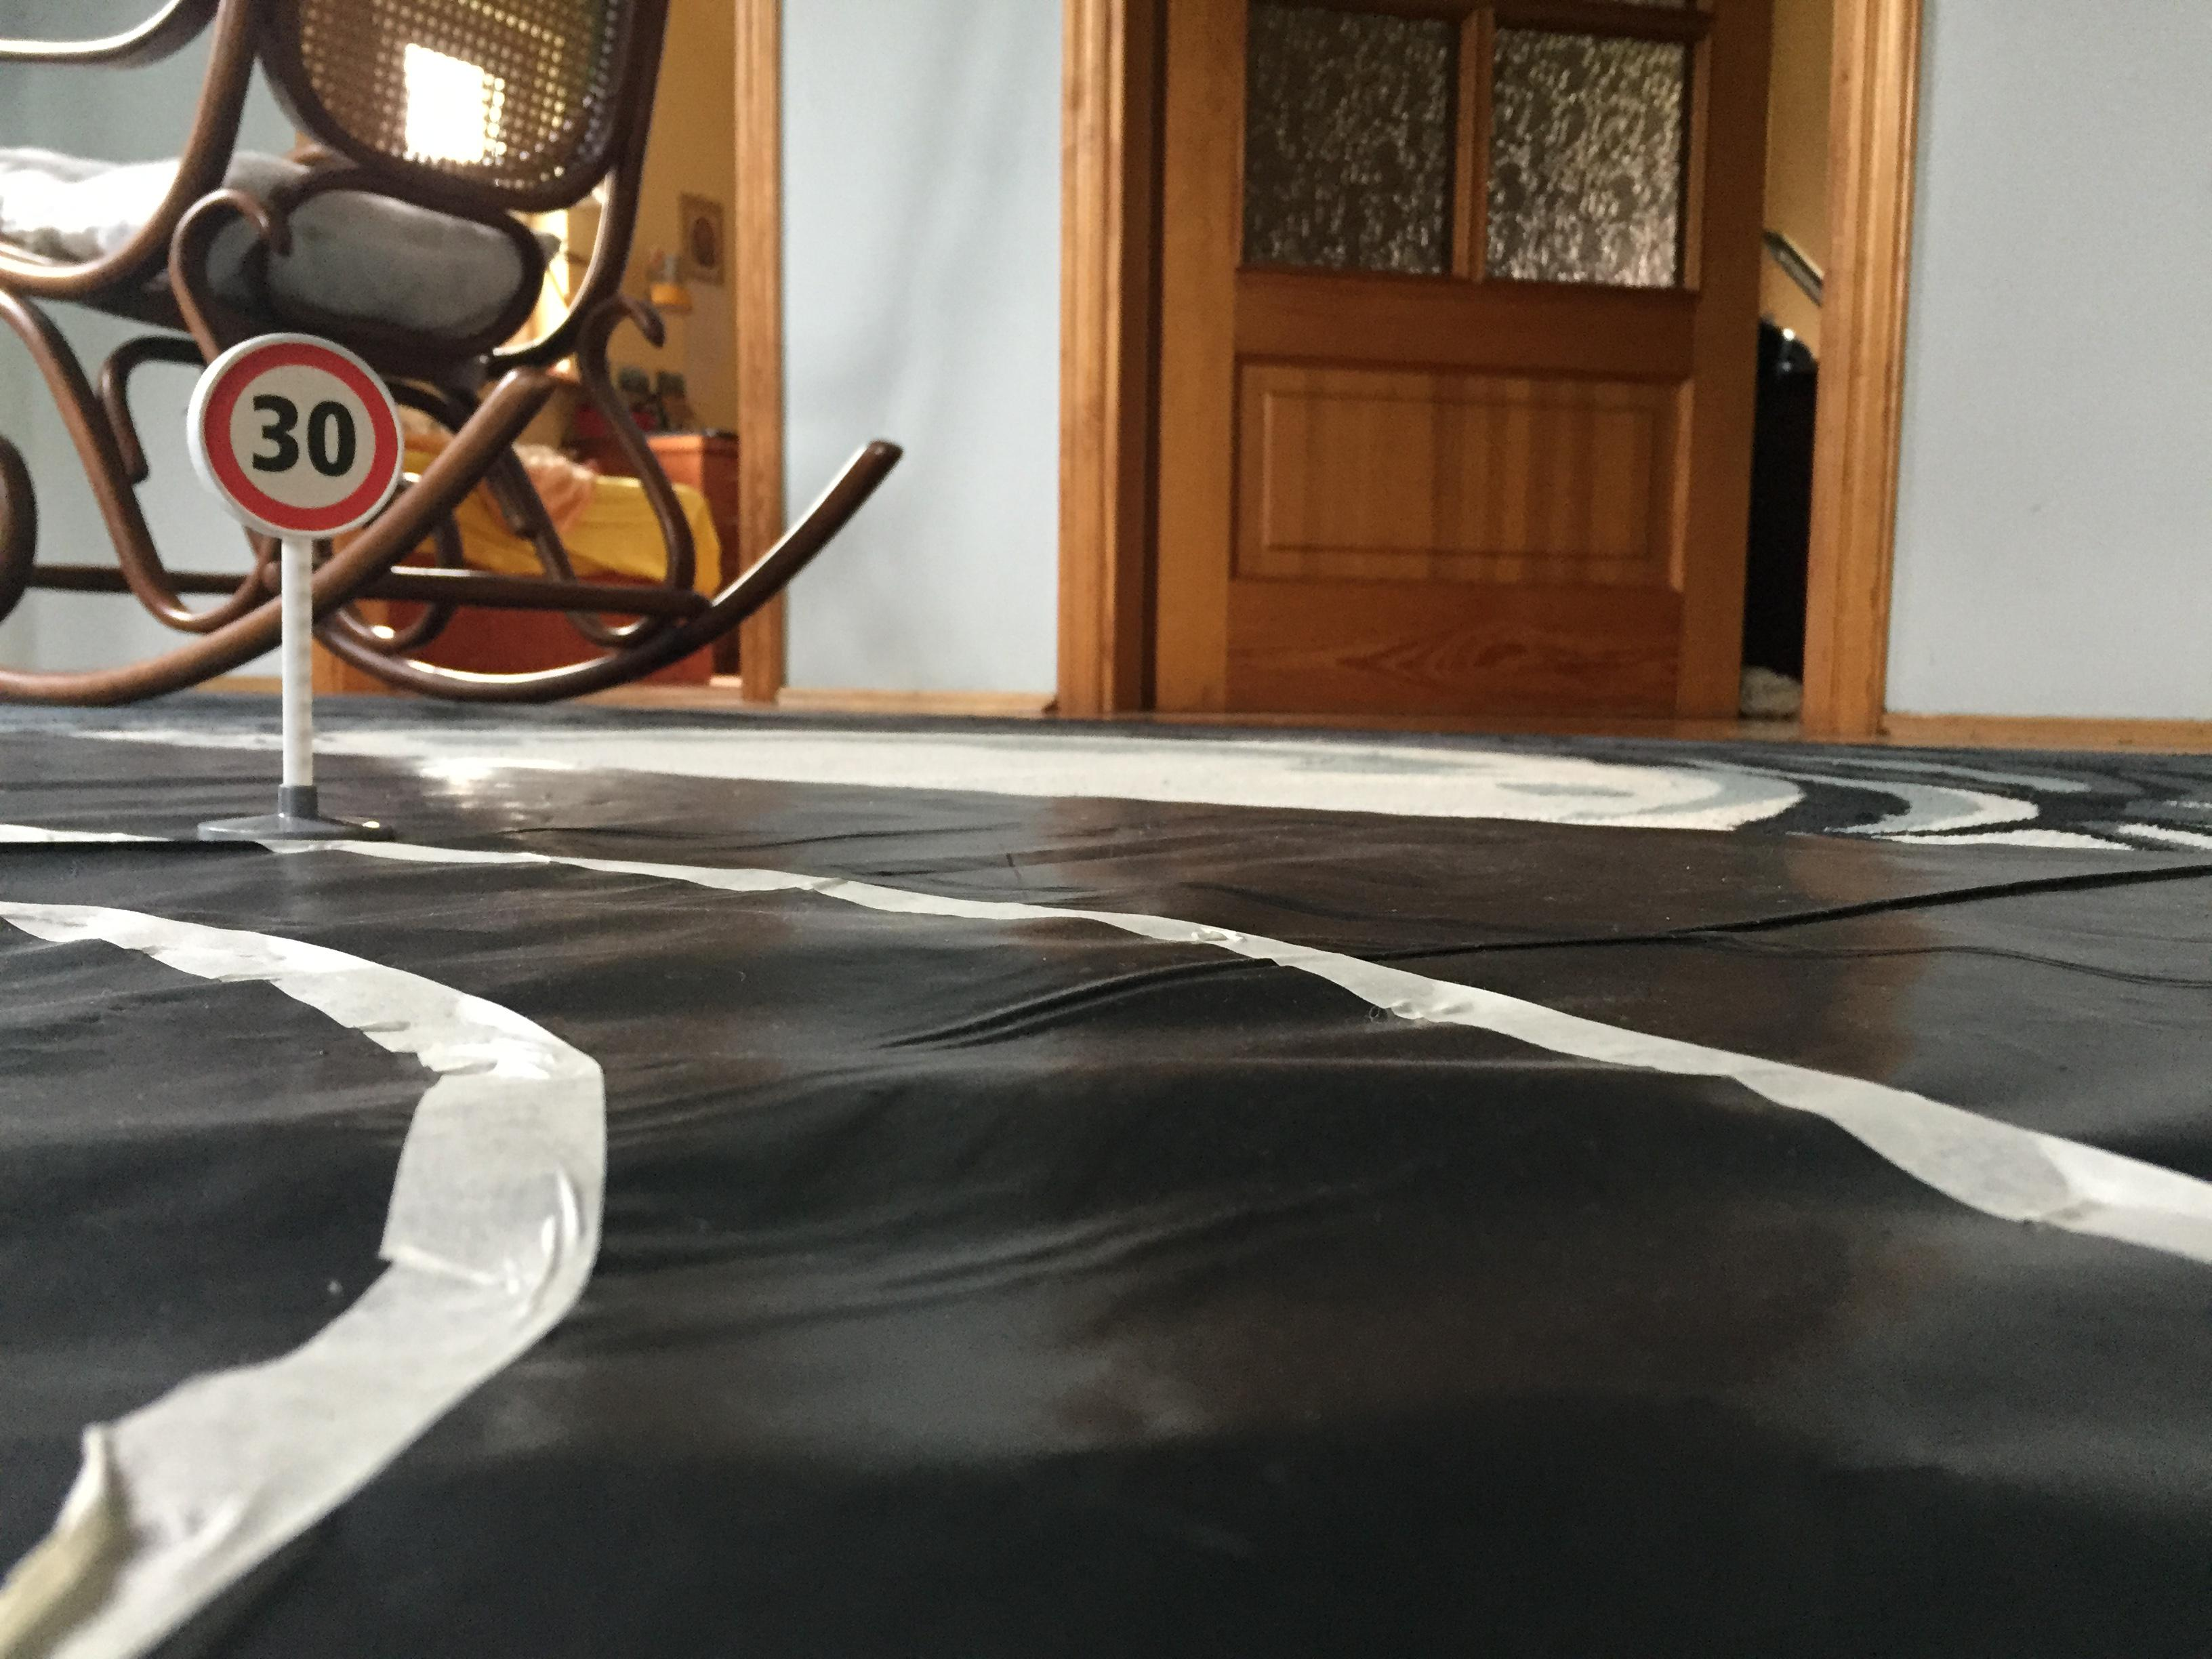speed: (174, 326, 409, 540)
